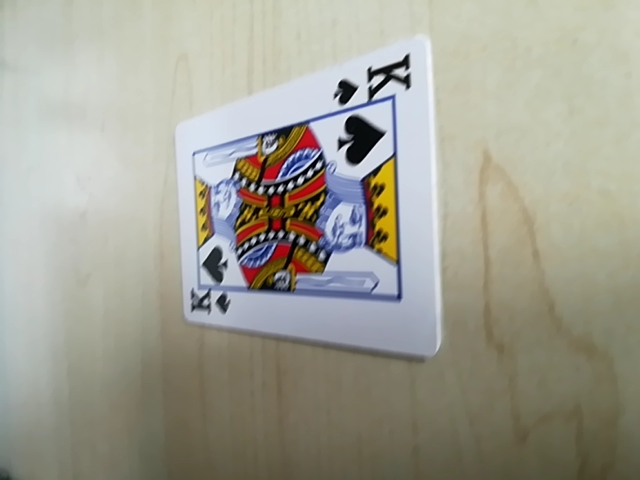ht k: (330, 53, 416, 110), (184, 278, 233, 323)
